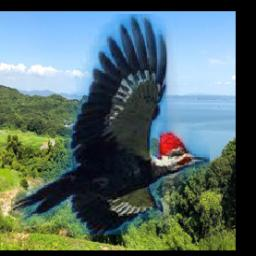Woodpecker: (12, 14, 211, 235)
